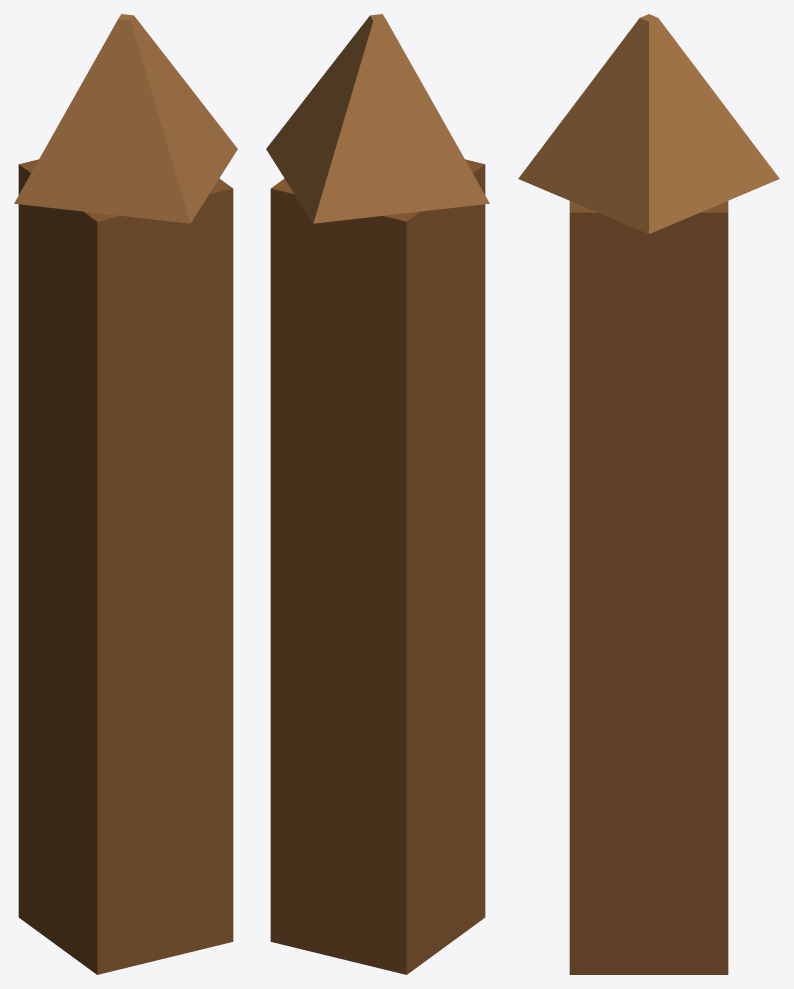
File: fence_post.glb
3 renders of one model, left to right at view 1: azimuth 30°, elevation 25°; view 2: azimuth 150°, elevation 25°; view 3: azimuth 270°, elevation 25°, orthographic.
Visible parts, largest first — view 1: Post.001, Post_Cap; view 2: Post.001, Post_Cap; view 3: Post.001, Post_Cap.
Boxes of the visible parts, bbox=[...] form: Post.001: bbox=[18, 159, 233, 974]; Post_Cap: bbox=[14, 14, 237, 223]; Post.001: bbox=[270, 159, 485, 974]; Post_Cap: bbox=[266, 14, 489, 223]; Post.001: bbox=[569, 201, 728, 974]; Post_Cap: bbox=[518, 14, 779, 233].
Size of the model in its own units: 0.56 by 2.18 by 0.56.
